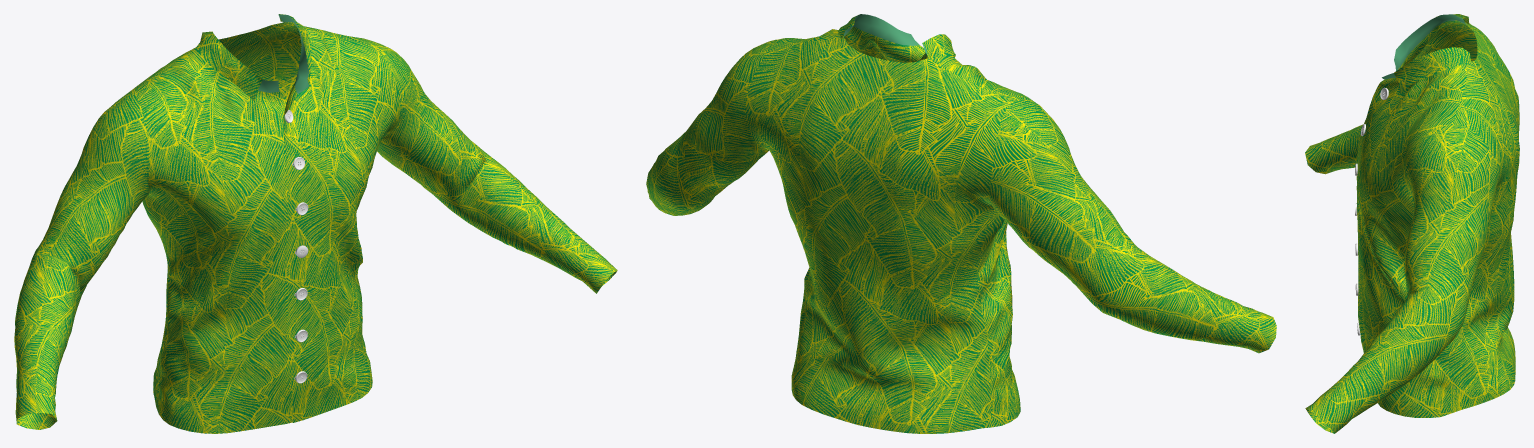
Rendered from Baju_Panjang.fbx.
The picture shows the model from 3 angles, left to right: view 1: azimuth 30°, elevation 25°; view 2: azimuth 150°, elevation 25°; view 3: azimuth 270°, elevation 25°; orthographic projection. The views are drawn at different scales.
Parts seen in each view (by area): view 1: Baju_Panjang.007; view 2: Baju_Panjang.007; view 3: Baju_Panjang.007.
Part boxes in pixels (x1,y1,x2,y2): Baju_Panjang.007: [14, 14, 617, 433]; Baju_Panjang.007: [646, 14, 1276, 433]; Baju_Panjang.007: [1305, 14, 1519, 433].
Size of the model in its own units: 1060 by 619 by 349.
Materials: 4 (2 with a texture image).
